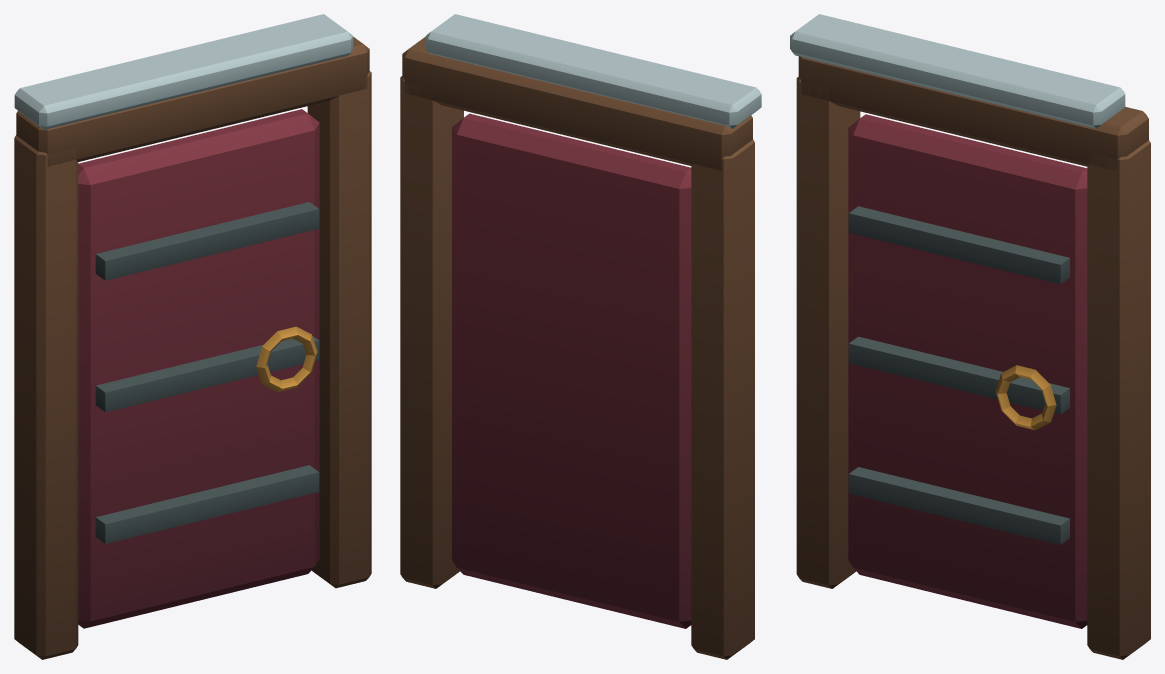
The model's file is snowhouse-door.glb.
The picture shows the model from 3 angles, left to right: view 1: azimuth 30°, elevation 25°; view 2: azimuth 150°, elevation 25°; view 3: azimuth 330°, elevation 25°; orthographic projection.
Visible parts, largest first — view 1: WorldSnowhouseDoorR13_R13 Snowhouse Door Oxblood_Batch, WorldSnowhouseDoorR13_R13 Snowhouse Door Timber_Batch, WorldSnowhouseDoorR13_R13 Snowhouse Door Iron_Batch, WorldSnowhouseDoorR13_R13 Snowhouse Door Snow_Batch, WorldSnowhouseDoorR13_R13 Snowhouse Door Brass_Batch; view 2: WorldSnowhouseDoorR13_R13 Snowhouse Door Oxblood_Batch, WorldSnowhouseDoorR13_R13 Snowhouse Door Timber_Batch, WorldSnowhouseDoorR13_R13 Snowhouse Door Snow_Batch; view 3: WorldSnowhouseDoorR13_R13 Snowhouse Door Oxblood_Batch, WorldSnowhouseDoorR13_R13 Snowhouse Door Timber_Batch, WorldSnowhouseDoorR13_R13 Snowhouse Door Iron_Batch, WorldSnowhouseDoorR13_R13 Snowhouse Door Snow_Batch, WorldSnowhouseDoorR13_R13 Snowhouse Door Brass_Batch.
Part boxes in pixels (x1,y1,x2,y2): WorldSnowhouseDoorR13_R13 Snowhouse Door Oxblood_Batch: [78, 109, 319, 628]; WorldSnowhouseDoorR13_R13 Snowhouse Door Timber_Batch: [14, 37, 371, 659]; WorldSnowhouseDoorR13_R13 Snowhouse Door Iron_Batch: [95, 202, 319, 543]; WorldSnowhouseDoorR13_R13 Snowhouse Door Snow_Batch: [14, 14, 353, 129]; WorldSnowhouseDoorR13_R13 Snowhouse Door Brass_Batch: [256, 326, 317, 392]; WorldSnowhouseDoorR13_R13 Snowhouse Door Oxblood_Batch: [452, 113, 691, 628]; WorldSnowhouseDoorR13_R13 Snowhouse Door Timber_Batch: [400, 36, 754, 659]; WorldSnowhouseDoorR13_R13 Snowhouse Door Snow_Batch: [426, 14, 761, 128]; WorldSnowhouseDoorR13_R13 Snowhouse Door Oxblood_Batch: [848, 114, 1087, 628]; WorldSnowhouseDoorR13_R13 Snowhouse Door Timber_Batch: [796, 56, 1150, 659]; WorldSnowhouseDoorR13_R13 Snowhouse Door Iron_Batch: [848, 206, 1069, 544]; WorldSnowhouseDoorR13_R13 Snowhouse Door Snow_Batch: [790, 14, 1125, 128]; WorldSnowhouseDoorR13_R13 Snowhouse Door Brass_Batch: [995, 365, 1056, 430].
Bounding box in the file's own units: 1.61 × 2.55 × 0.317.
